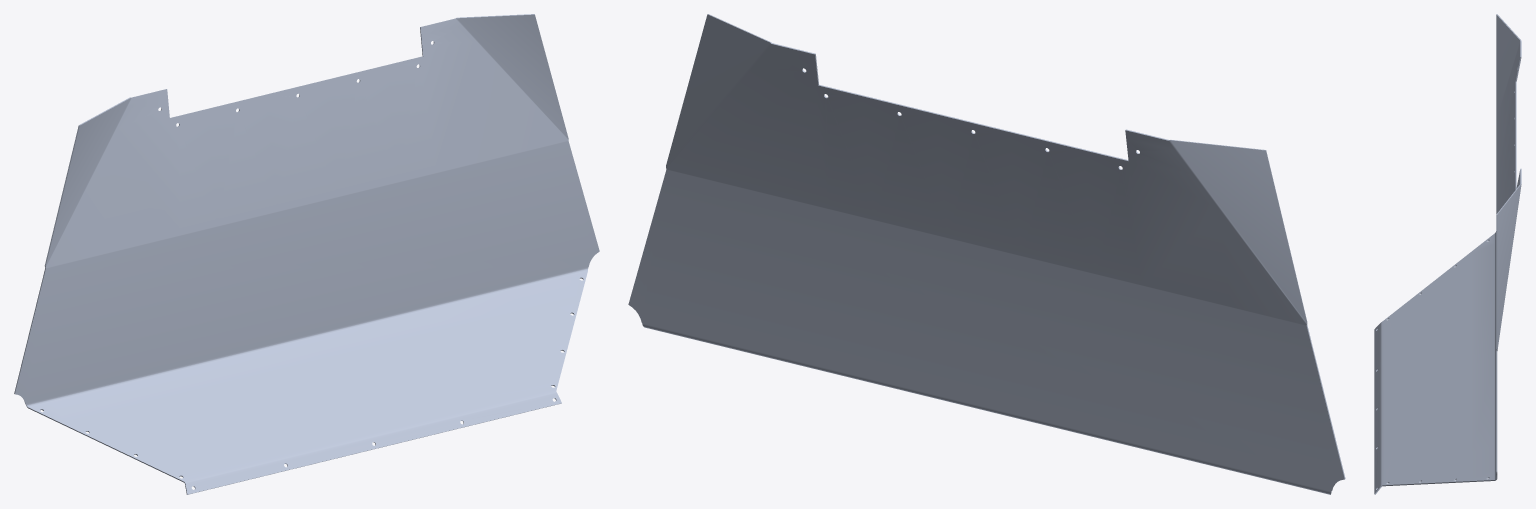
Rendered from Firewall__UA_26_Upper_Firewall_1.dae.
The picture shows the model from 3 angles, left to right: view 1: azimuth 30°, elevation 25°; view 2: azimuth 150°, elevation 25°; view 3: azimuth 270°, elevation 25°; orthographic projection. The views are drawn at different scales.
Parts seen in each view (by area): view 1: node0; view 2: node0; view 3: node0.
Part boxes in pixels (x1,y1,x2,y2): node0: [14, 14, 599, 494]; node0: [628, 14, 1345, 494]; node0: [1374, 14, 1521, 494].
Bounding box in the file's own units: 0.664 × 0.3607 × 0.1602.
